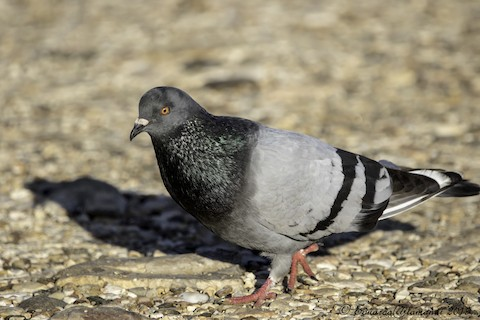pigeon: (128, 79, 467, 304)
